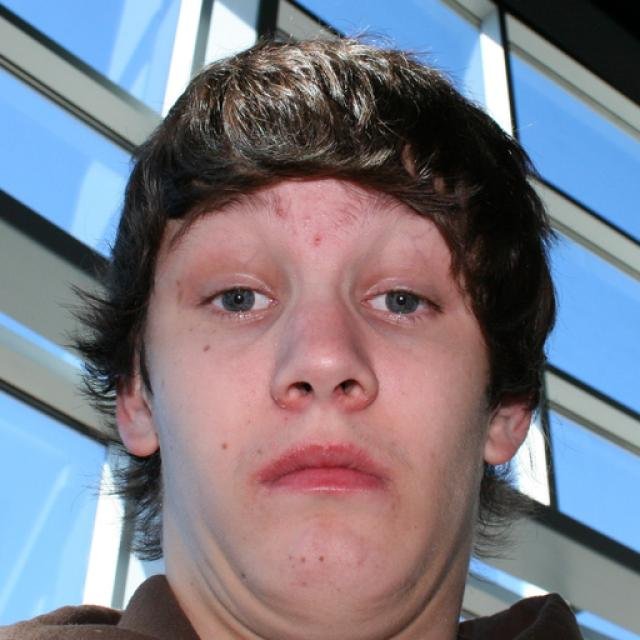Acne: (297, 208, 315, 230), (309, 231, 328, 250), (271, 204, 288, 222)
